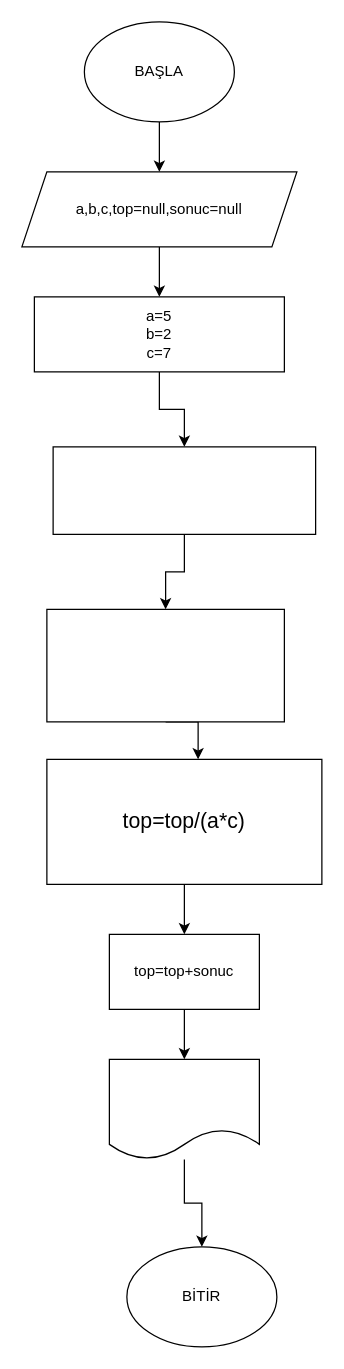
This 344x1369 diagram has some shape labels left out. The box of each missing label's shape, as (x1, y1, x2, y2) in pixels:
a=a*a*a; b=b*b*b; c=7: (52, 446, 316, 534)
sonuc: (108, 1058, 259, 1159)
top=(a*2*b)+(b*2*a): (46, 608, 284, 722)
